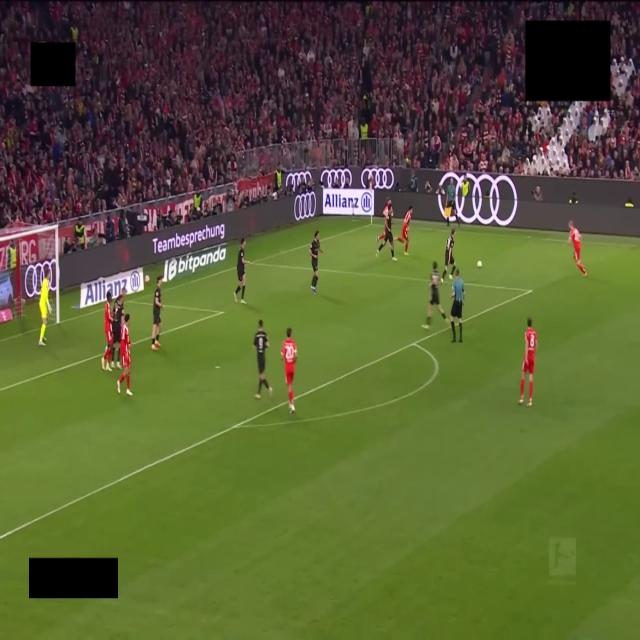ball: (477, 261, 482, 268)
player: (519, 318, 537, 406), (422, 262, 445, 328), (254, 320, 272, 399), (281, 328, 297, 413), (117, 314, 132, 396), (376, 200, 396, 261), (101, 292, 113, 370), (39, 267, 51, 345), (569, 222, 586, 276), (234, 238, 248, 303), (111, 293, 123, 368), (310, 230, 324, 294), (152, 276, 163, 350), (397, 207, 412, 255), (442, 229, 455, 279), (377, 199, 392, 241)
referee: (450, 269, 464, 343)
